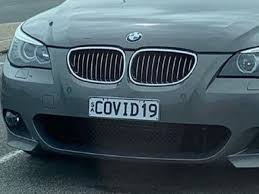number_plate: (84, 93, 171, 127)
